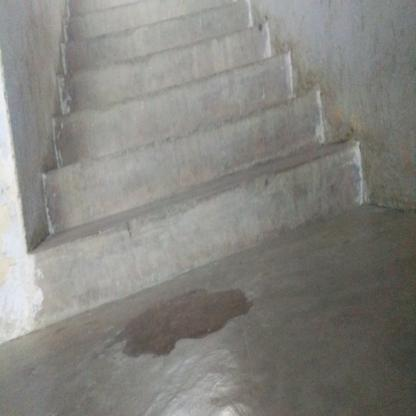stairs: (61, 44, 315, 262)
